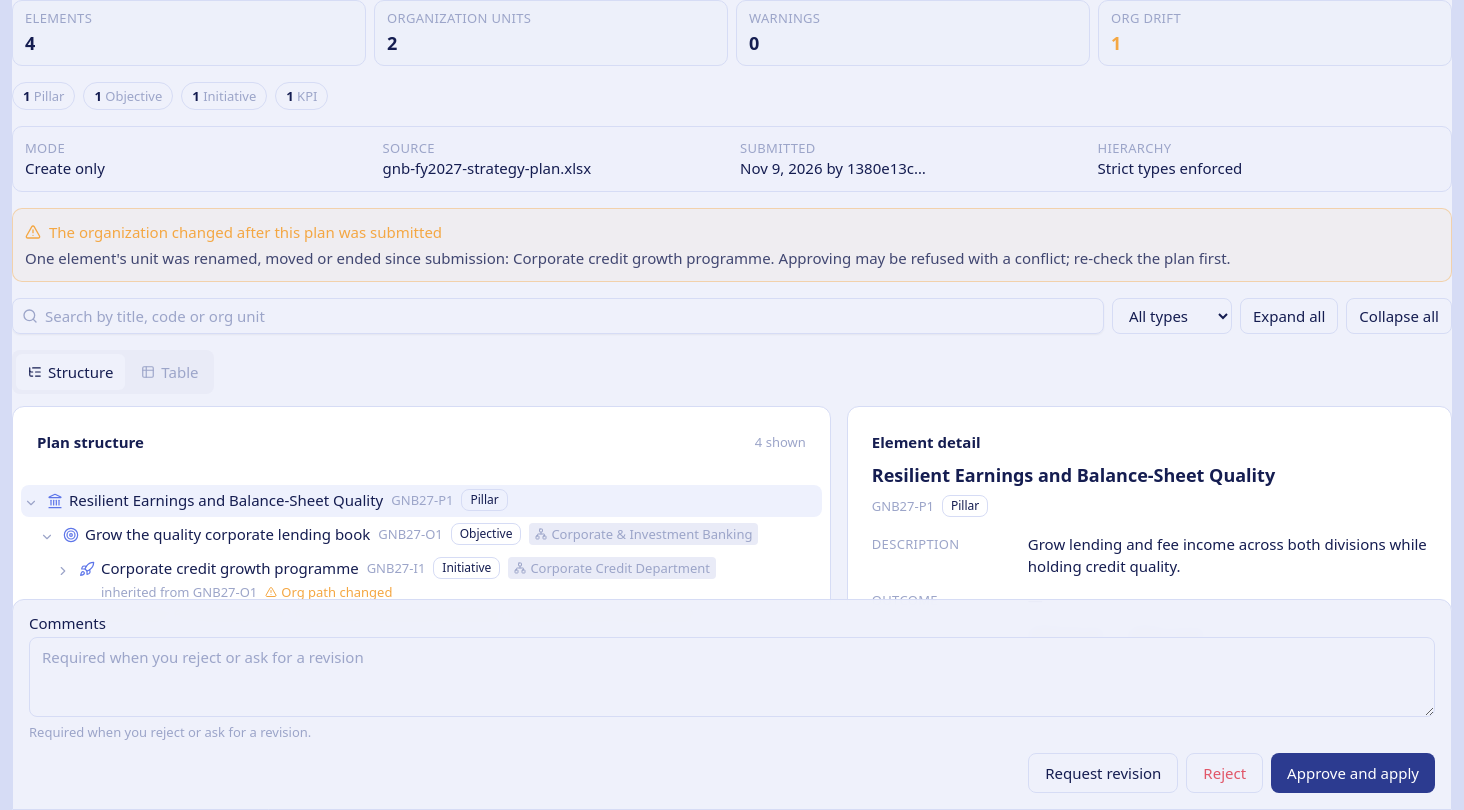
Test: BatchReviewView › filters by search and explains when nothing matches
Type "no such element" into the field named "Search elements" at [558, 316], box [12, 298, 1104, 334]
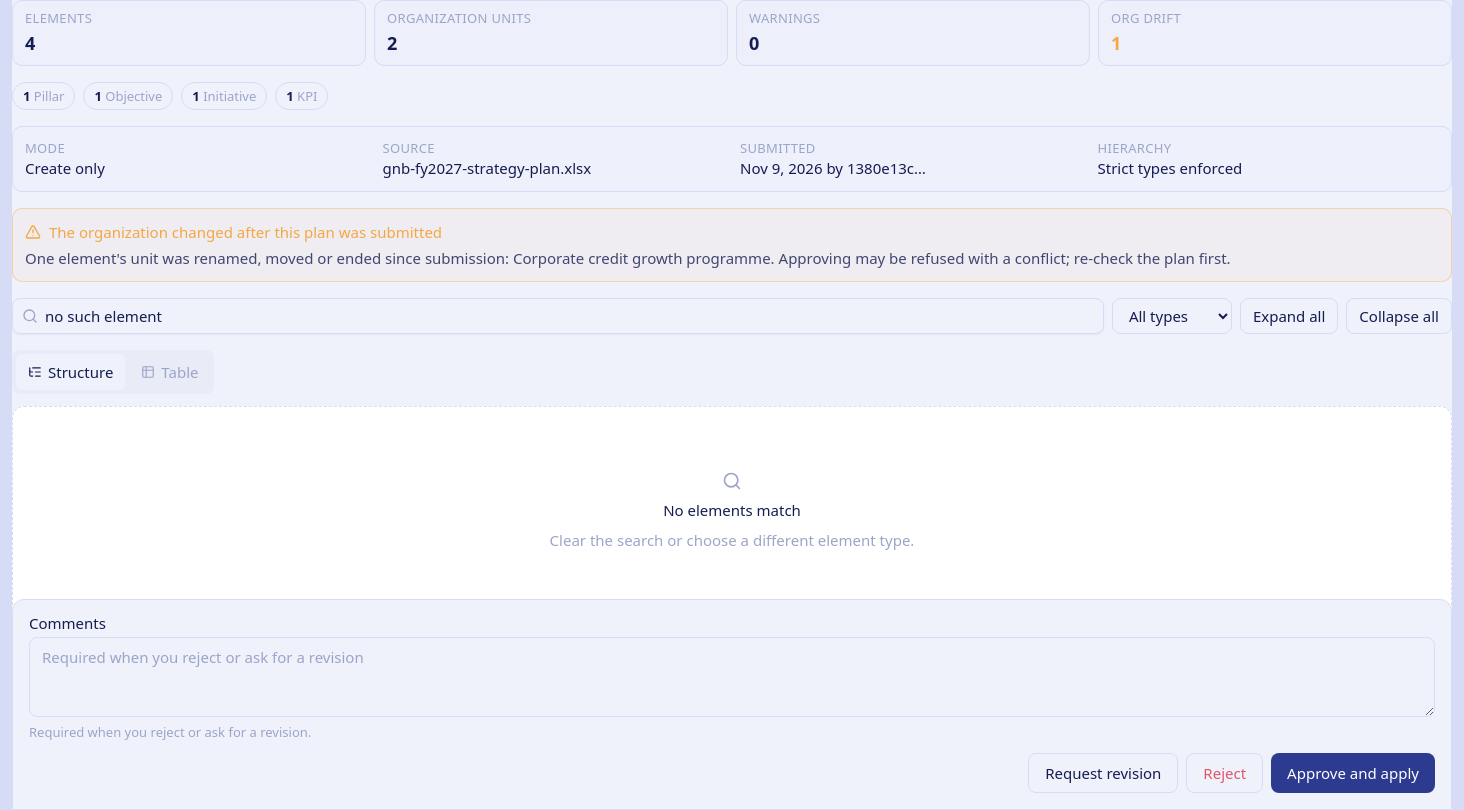
Result: the text "No elements match" is shown at [663, 499, 801, 521]
